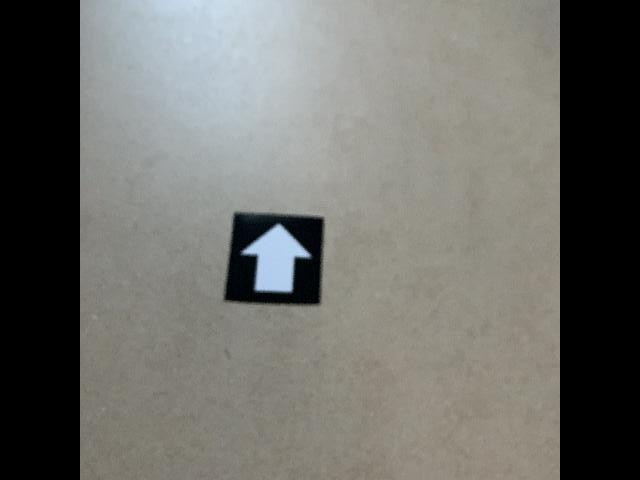up: (221, 207, 325, 308)
